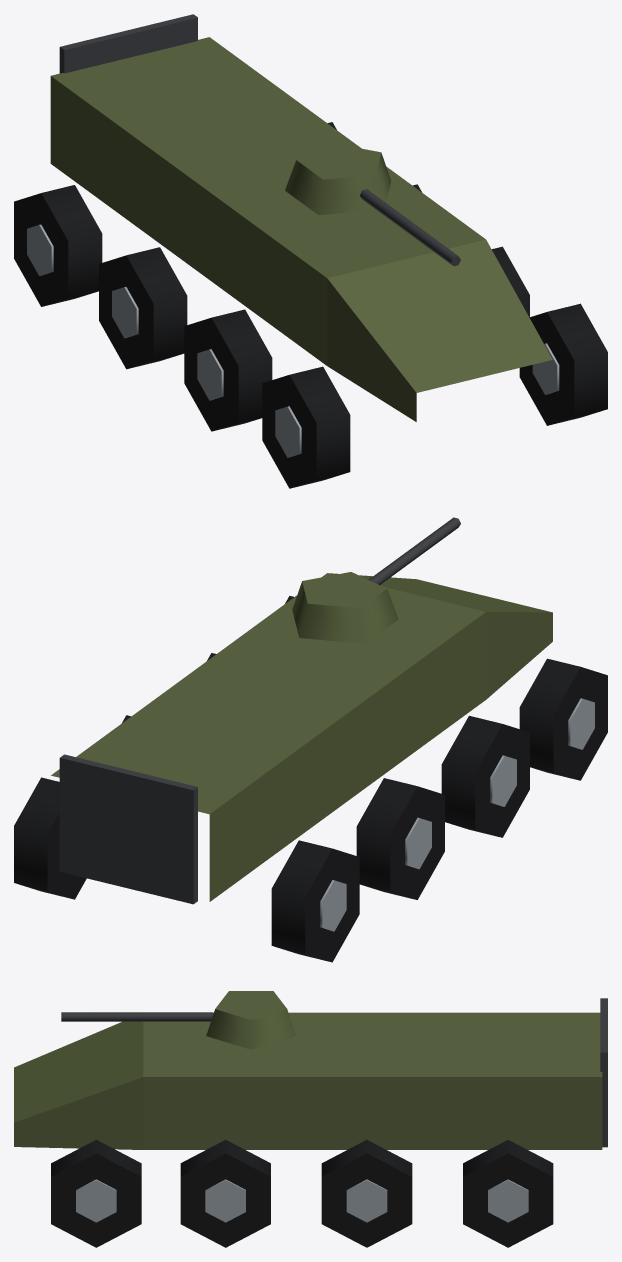
The model's file is veh_ground_apc_a06_lod1.glb.
3 views of the same model, one above another, from view 1: azimuth 30°, elevation 25°; view 2: azimuth 150°, elevation 25°; view 3: azimuth 270°, elevation 25° (orthographic). The views are drawn at different scales.
Visible parts, largest first — view 1: body, wheel_6, wheel_2, wheel_0, wheel_4, wheel_7, gun, ramp, wheel_5; view 2: body, ramp, wheel_0, wheel_2, wheel_4, wheel_6, gun, wheel_1; view 3: body, wheel_3, wheel_7, wheel_5, wheel_1, gun, ramp.
Boxes of the visible parts, x1,y1,x2,y2 form: body: (50, 37, 552, 421); wheel_6: (262, 366, 350, 488); wheel_2: (99, 247, 187, 369); wheel_0: (14, 185, 102, 306); wheel_4: (184, 309, 272, 431); wheel_7: (519, 303, 607, 425); gun: (285, 143, 460, 266); ramp: (59, 14, 197, 73); wheel_5: (492, 246, 529, 317); body: (51, 573, 552, 901); ramp: (59, 754, 197, 904); wheel_0: (271, 840, 359, 962); wheel_2: (356, 778, 444, 899); wheel_4: (441, 715, 529, 837); wheel_6: (519, 658, 607, 780); gun: (292, 517, 460, 643); wheel_1: (14, 777, 86, 899); body: (14, 1012, 602, 1149); wheel_3: (321, 1140, 412, 1247); wheel_7: (51, 1139, 141, 1247); wheel_5: (180, 1139, 270, 1247); wheel_1: (463, 1140, 553, 1247); gun: (61, 991, 295, 1049); ramp: (600, 998, 607, 1147).
Bounding box in the file's own units: 2.98 × 2.15 × 6.26.
